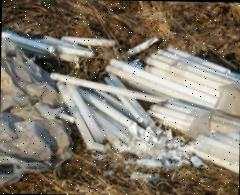lightbulb: (103, 44, 240, 180), (1, 26, 115, 65)
